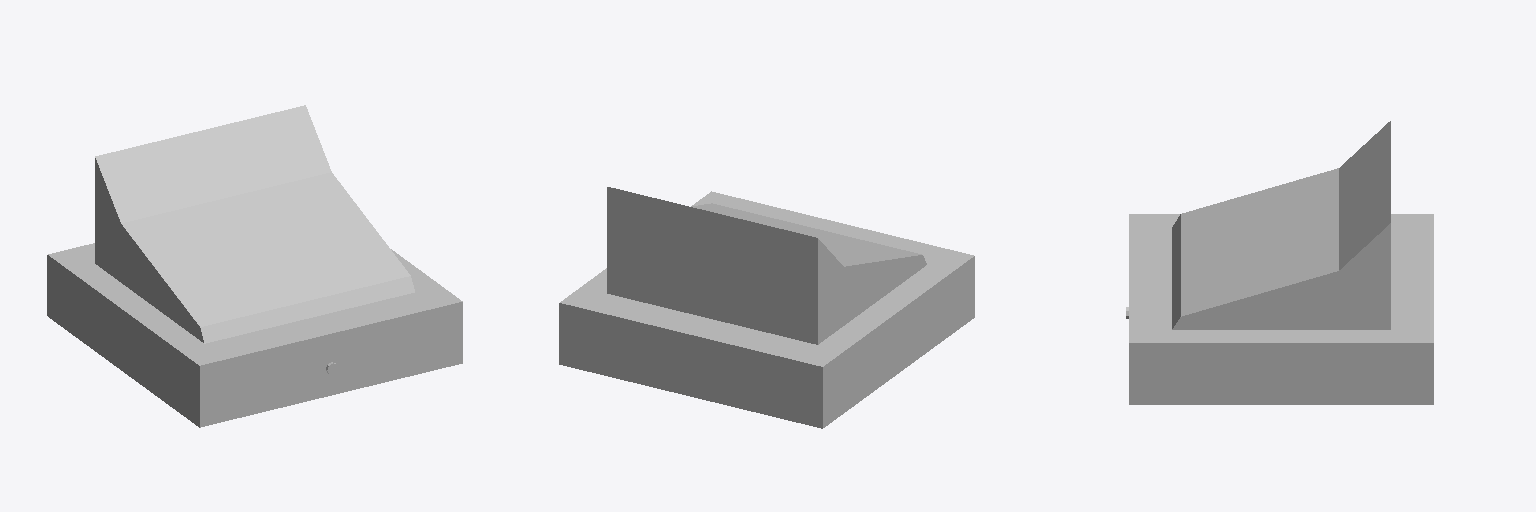
File: caja_registradora.obj
The picture shows the model from 3 angles: view 1: azimuth 30°, elevation 25°; view 2: azimuth 150°, elevation 25°; view 3: azimuth 270°, elevation 25°; orthographic projection.
Visible parts, largest first — view 1: Caja; view 2: Caja; view 3: Caja.
Part boxes in pixels (x1,y1,x2,y2): Caja: (47,105,462,427); Caja: (559,187,974,428); Caja: (1129,121,1433,404).
Size of the model in its own units: 0.5 by 0.3066 by 0.5053.